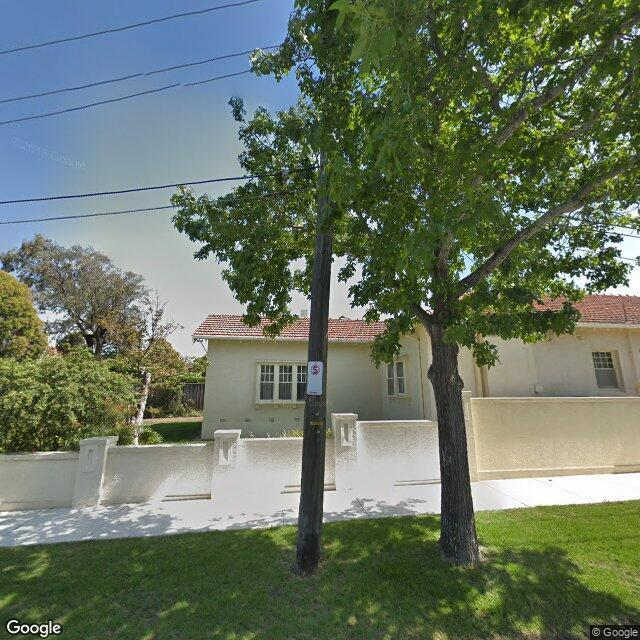timber-pole: (296, 162, 335, 577)
